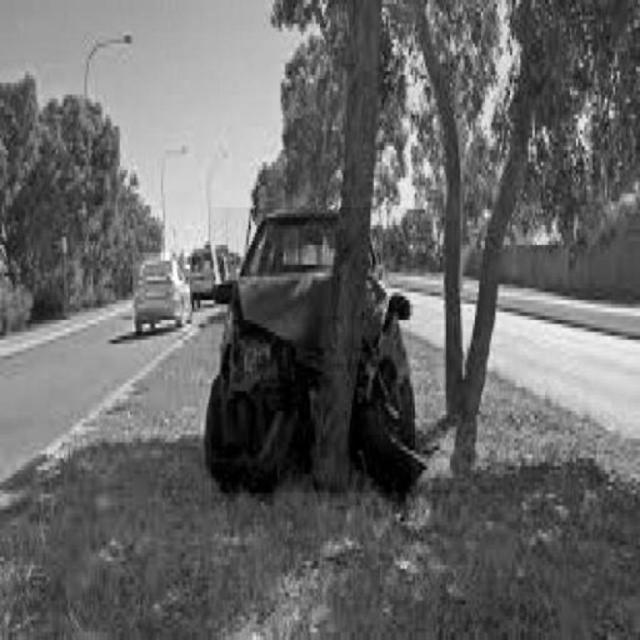accident: (212, 207, 412, 493)
vehicle: (133, 253, 190, 331)
